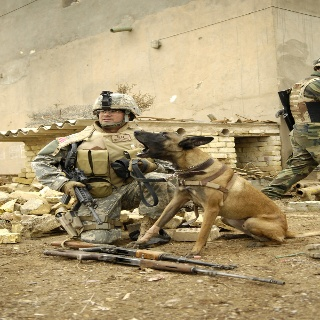rifle: (43, 246, 288, 290), (50, 237, 234, 270), (60, 143, 104, 225)
